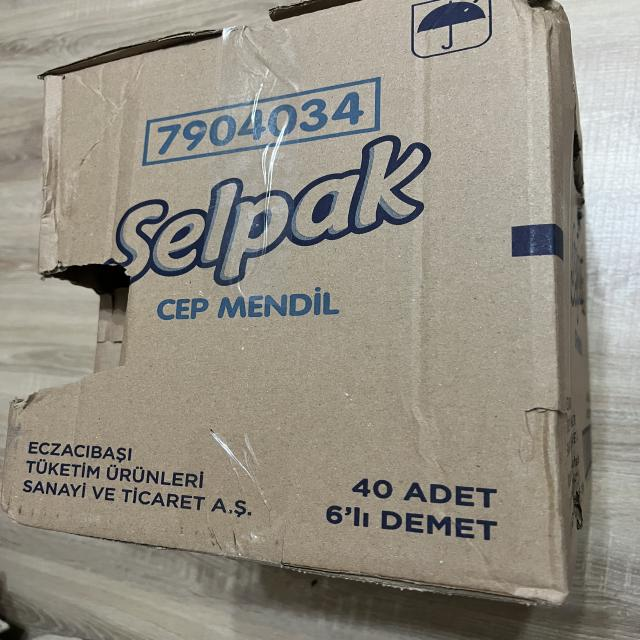damaged: (4, 4, 599, 611), (19, 255, 161, 420), (28, 160, 78, 230), (525, 403, 574, 429)
